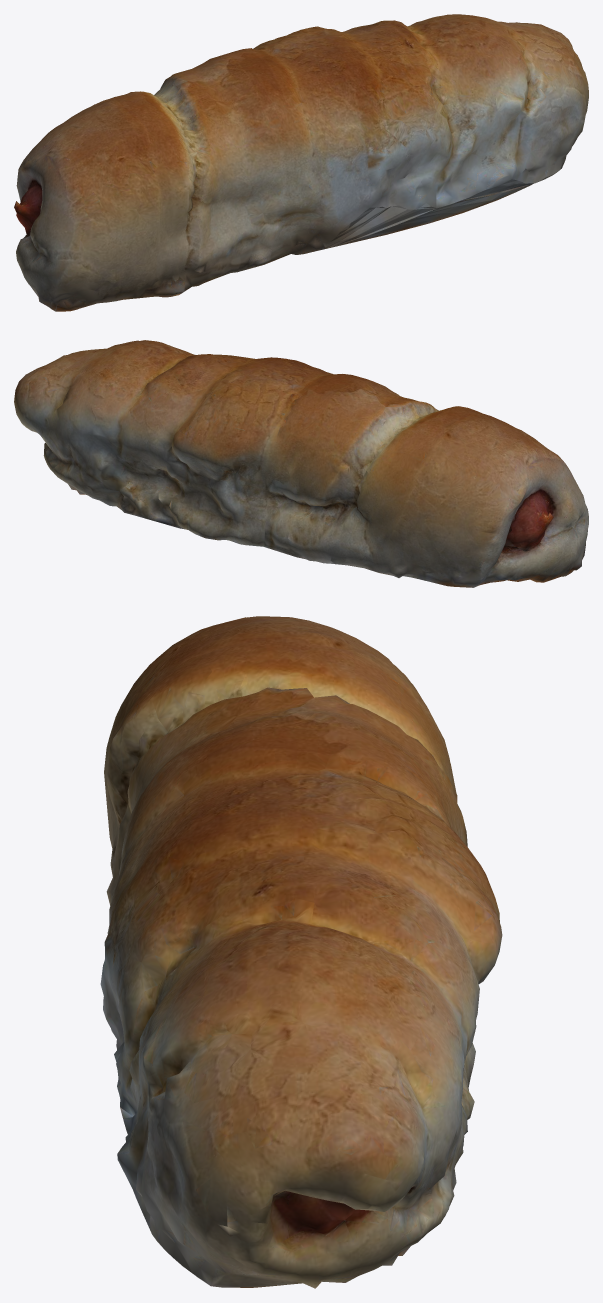
File: hot-dog-v03.glb
The picture shows the model from 3 angles, top to bottom: view 1: azimuth 30°, elevation 25°; view 2: azimuth 150°, elevation 25°; view 3: azimuth 270°, elevation 25°; orthographic projection. The views are drawn at different scales.
Parts seen in each view (by area): view 1: HottoDoggu.001_Material.002_0; view 2: HottoDoggu.001_Material.002_0; view 3: HottoDoggu.001_Material.002_0.
Boxes of the visible parts, box(x1,y1,x2,y2) form: HottoDoggu.001_Material.002_0: box(14, 14, 588, 311); HottoDoggu.001_Material.002_0: box(14, 340, 588, 587); HottoDoggu.001_Material.002_0: box(100, 616, 502, 1288).
Size of the model in its own units: 0.2 by 0.0581 by 0.0659.
Materials: 1 (1 with a texture image).
